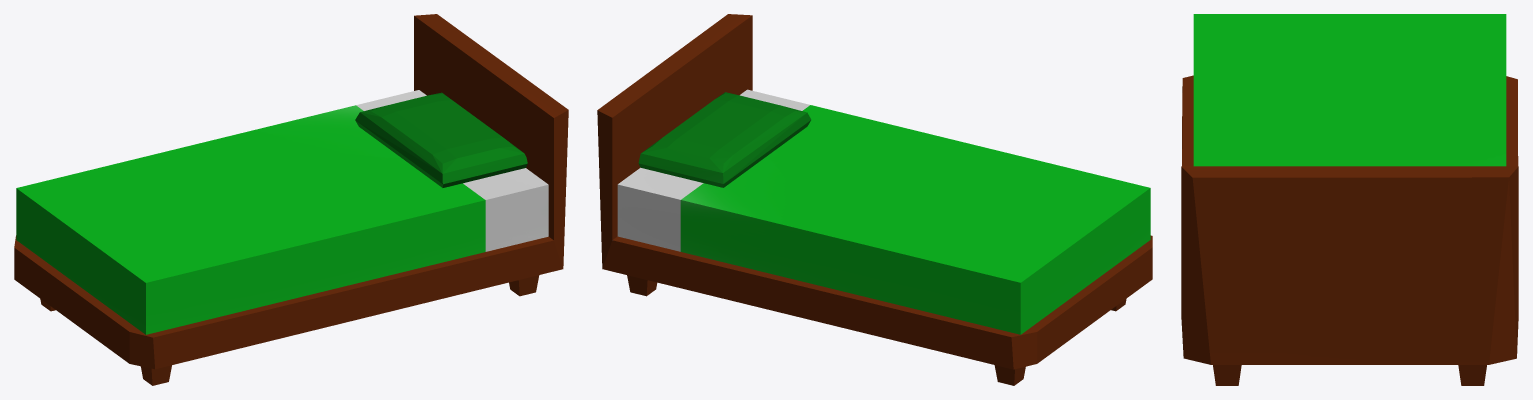
Rendered from son Bed.fbx.
3 renders of one model, left to right at view 1: azimuth 30°, elevation 25°; view 2: azimuth 150°, elevation 25°; view 3: azimuth 270°, elevation 25°, orthographic. The views are drawn at different scales.
Parts seen in each view (by area): view 1: Cube; view 2: Cube; view 3: Cube.
Part boxes in pixels (x1,y1,x2,y2): Cube: (14, 14, 568, 385); Cube: (597, 14, 1152, 385); Cube: (1181, 14, 1518, 385).
Bounding box in the file's own units: 716 × 290 × 400.
